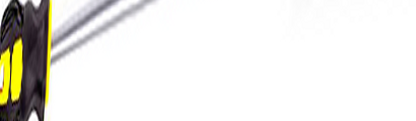screwdriver: (1, 2, 181, 121)
